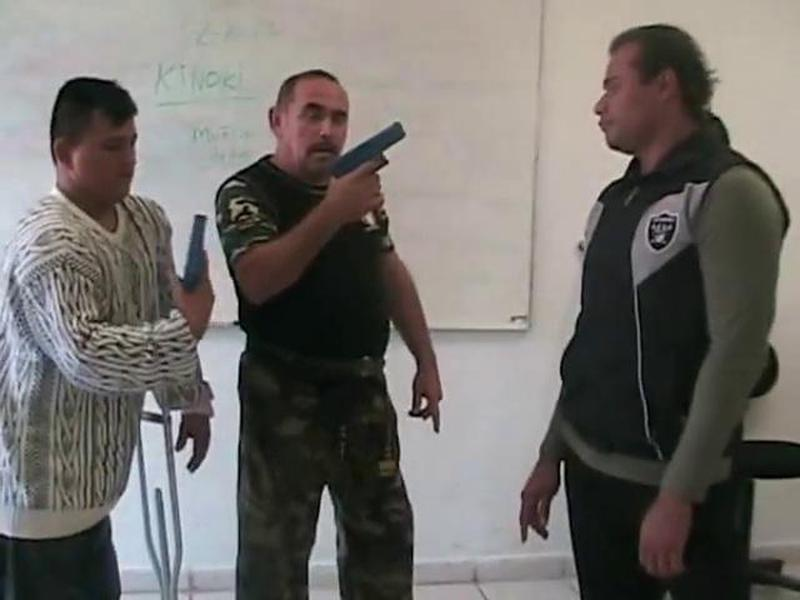Pistola: (318, 106, 425, 217)
